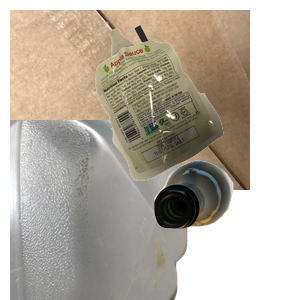cardboard: (10, 10, 250, 190)
glass: (151, 158, 300, 300)
plastic: (10, 120, 190, 300)
trash: (93, 26, 300, 200)
